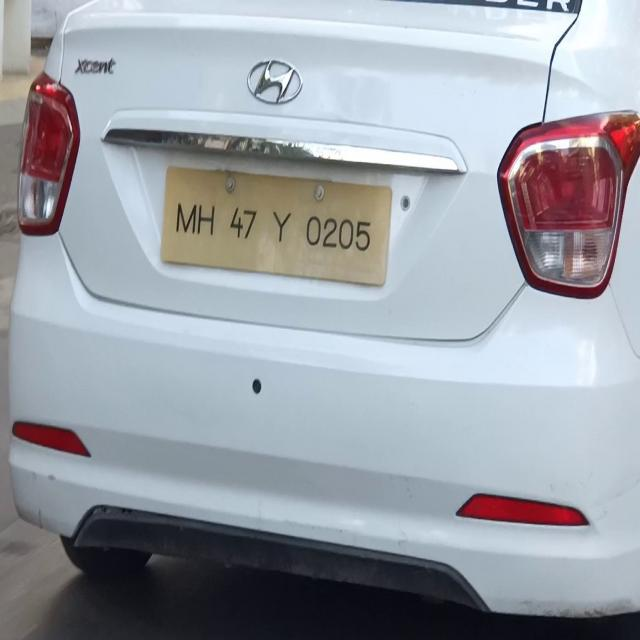license-plate: (161, 166, 392, 286)
